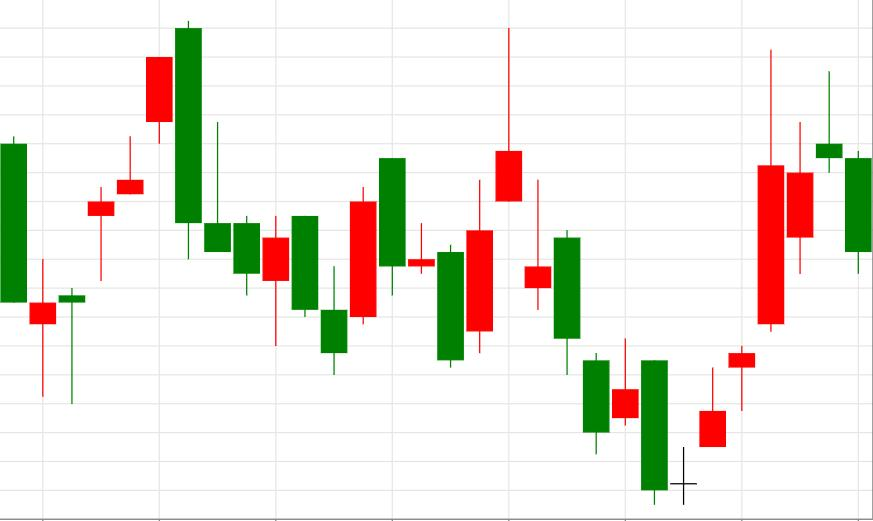bearish_engulfing_fall: (30, 21, 202, 404)
morning_star_rise: (554, 228, 725, 505)
